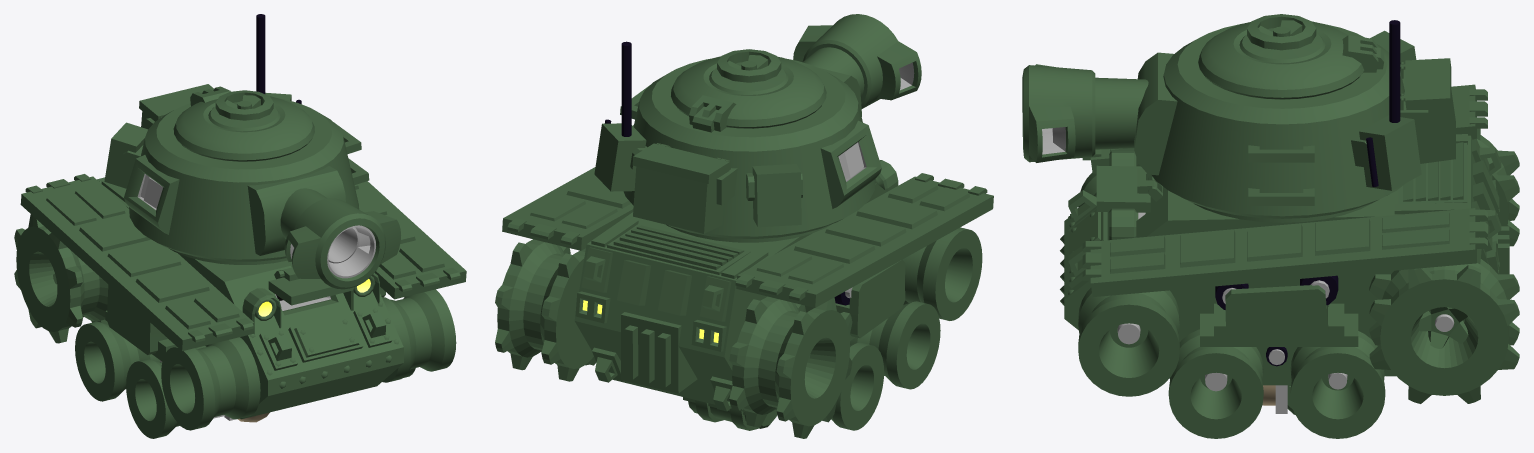
File: Tank_Concept_01.fbx
3 views of the same model, side by side, from view 1: azimuth 30°, elevation 25°; view 2: azimuth 150°, elevation 25°; view 3: azimuth 270°, elevation 25° (orthographic). The views are drawn at different scales.
Parts seen in each view (by area): view 1: Turret, TankBody, Chassis, RearWheels; view 2: Turret, TankBody, RearWheels, Chassis, Barrel; view 3: Turret, TankBody, Chassis, RearWheels.
Part boxes in pixels (<box>): Turret: <box>104,14,400,289</box>; TankBody: <box>20,174,466,419</box>; Chassis: <box>75,284,456,438</box>; RearWheels: <box>14,214,108,343</box>; Turret: <box>594,14,921,242</box>; TankBody: <box>502,160,993,411</box>; RearWheels: <box>495,239,852,438</box>; Chassis: <box>585,227,982,430</box>; Barrel: <box>688,400,777,430</box>; Turret: <box>1022,14,1455,222</box>; TankBody: <box>1060,84,1509,376</box>; Chassis: <box>1078,172,1385,438</box>; RearWheels: <box>1369,128,1519,403</box>.
Bounding box in the file's own units: 1.29 × 1.54 × 1.65.
